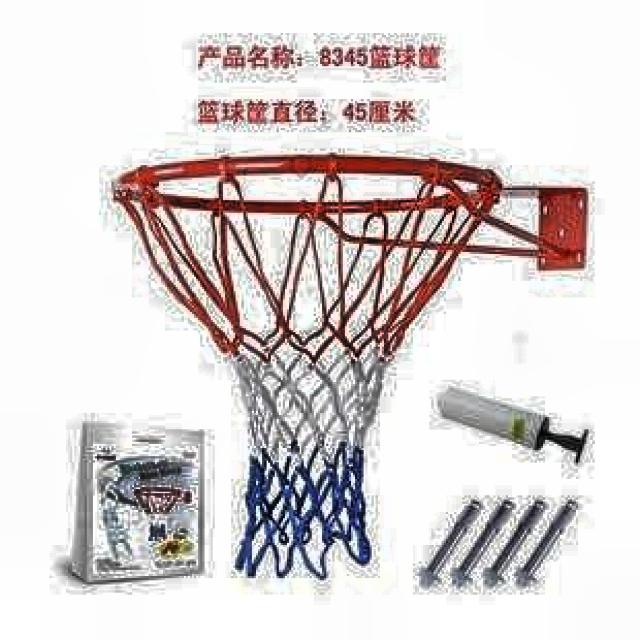rim: (110, 157, 500, 578)
